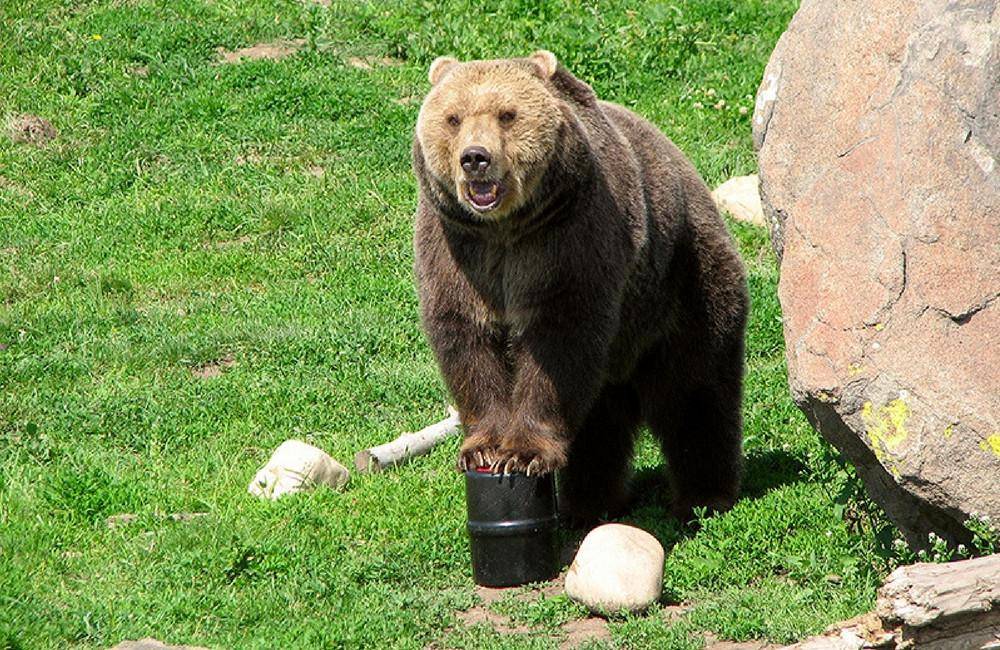bear: (409, 52, 573, 219)
